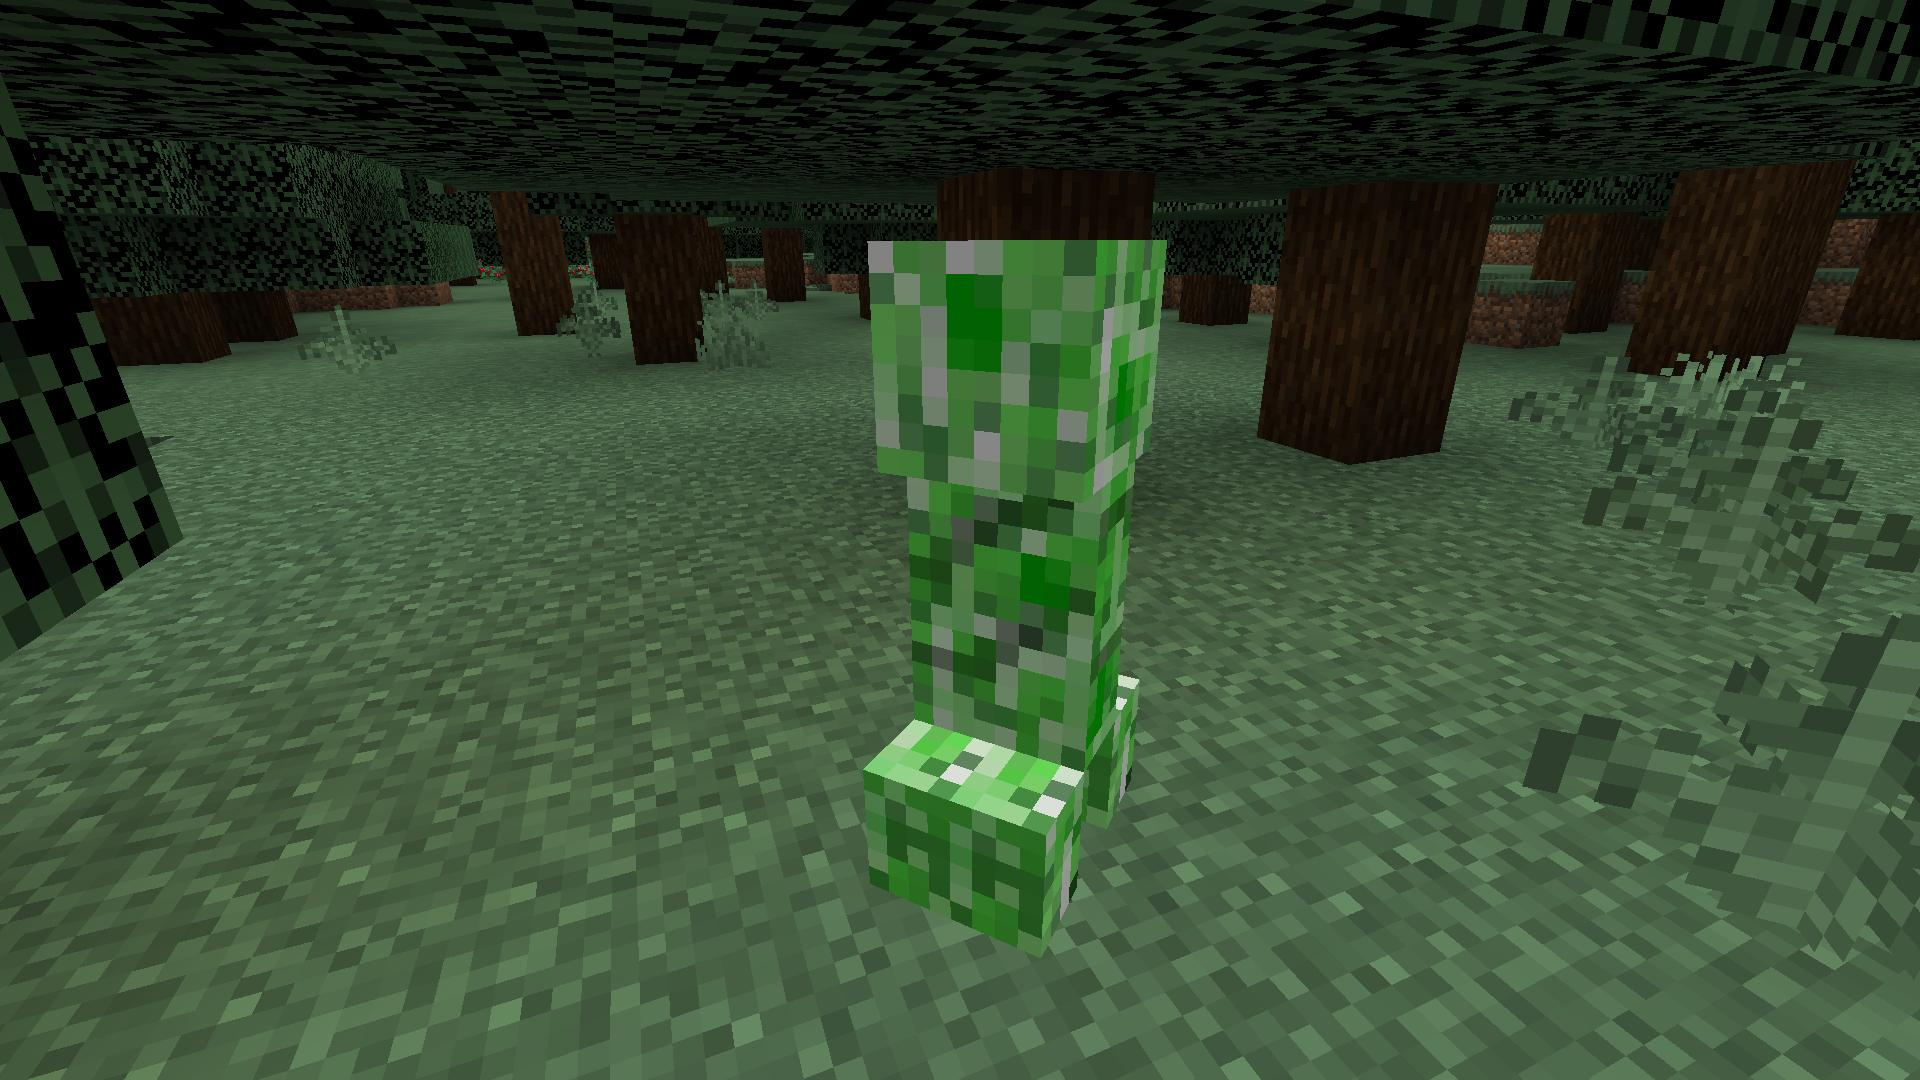creeper: (843, 227, 1185, 947)
